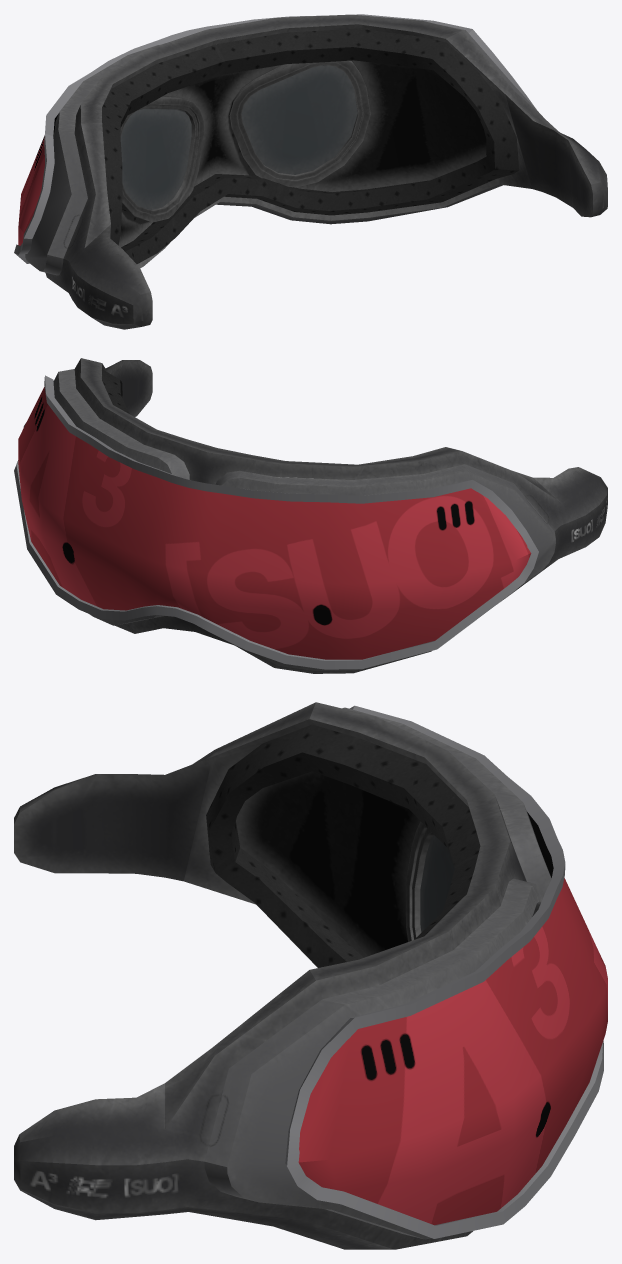
File: a3-combine.glb
3 views of the same model, one above another, from view 1: azimuth 30°, elevation 25°; view 2: azimuth 150°, elevation 25°; view 3: azimuth 270°, elevation 25° (orthographic). The views are drawn at different scales.
Parts seen in each view (by area): view 1: A3, Front_Add_(A3); view 2: Front_Add_(A3), A3; view 3: A3, Front_Add_(A3).
Part boxes in pixels (<box>): A3: <box>25,14,607,329</box>; Front_Add_(A3): <box>14,14,536,263</box>; Front_Add_(A3): <box>14,375,538,669</box>; A3: <box>53,358,607,673</box>; A3: <box>14,702,551,1249</box>; Front_Add_(A3): <box>285,705,607,1238</box>.
Bounding box in the file's own units: 1.43 × 0.5377 × 0.9577.
2 materials, 2 textured.
